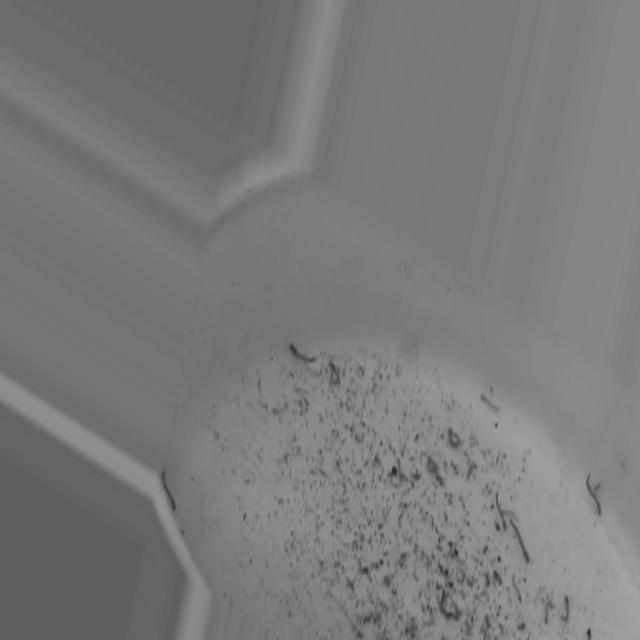larvas: (512, 515, 534, 566), (494, 487, 509, 532), (586, 471, 601, 512), (162, 466, 176, 509), (290, 341, 316, 362), (503, 503, 521, 525), (389, 457, 402, 486), (481, 395, 499, 413), (448, 428, 461, 446), (544, 603, 555, 624), (330, 362, 341, 382), (562, 594, 569, 622), (355, 362, 365, 379), (425, 458, 436, 472)
